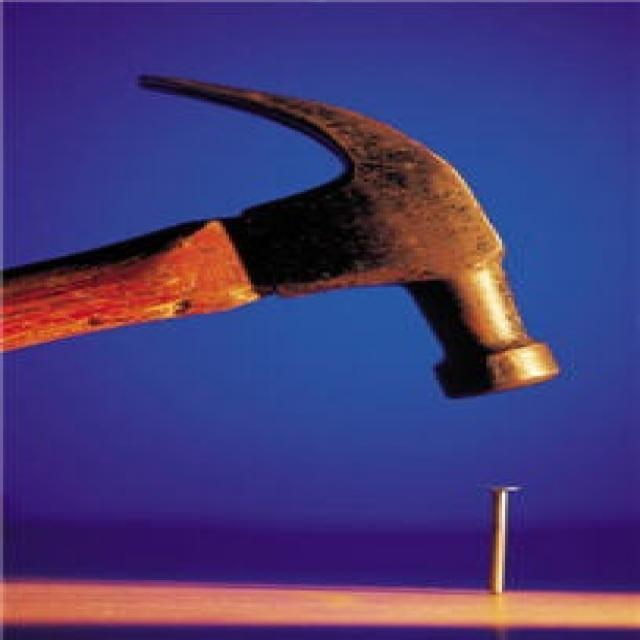hammer: (0, 69, 574, 408)
